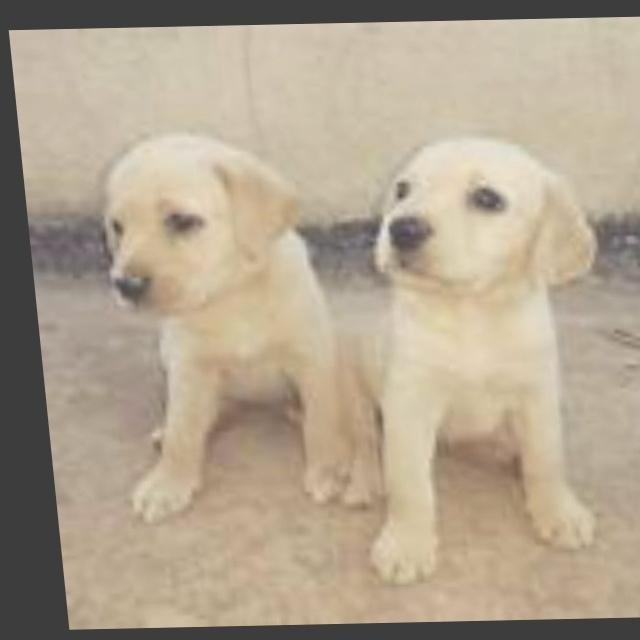dog: (329, 111, 640, 619), (58, 109, 368, 532)
